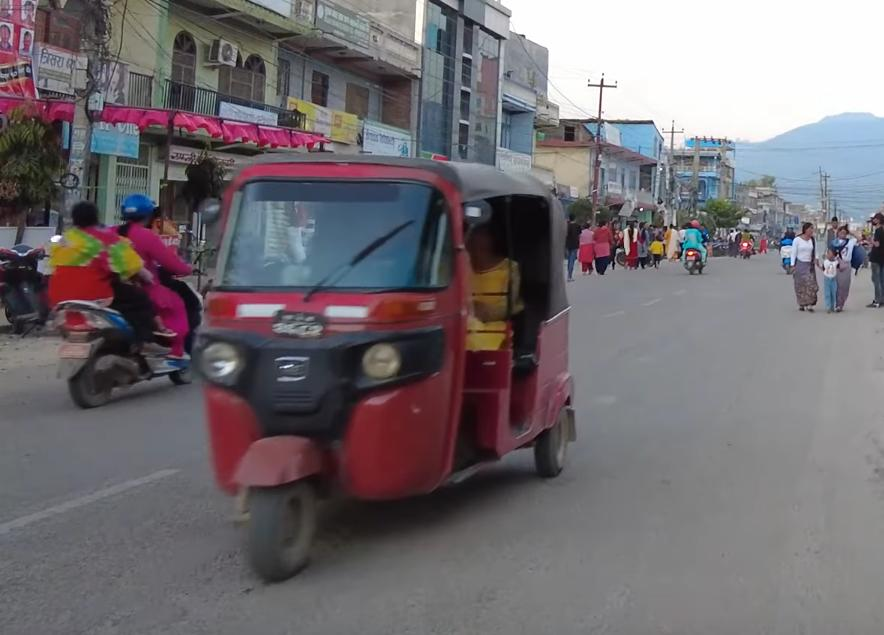auto_rickshaw: (176, 142, 593, 582)
scooter: (47, 262, 205, 404), (0, 229, 63, 341), (778, 236, 796, 280)
